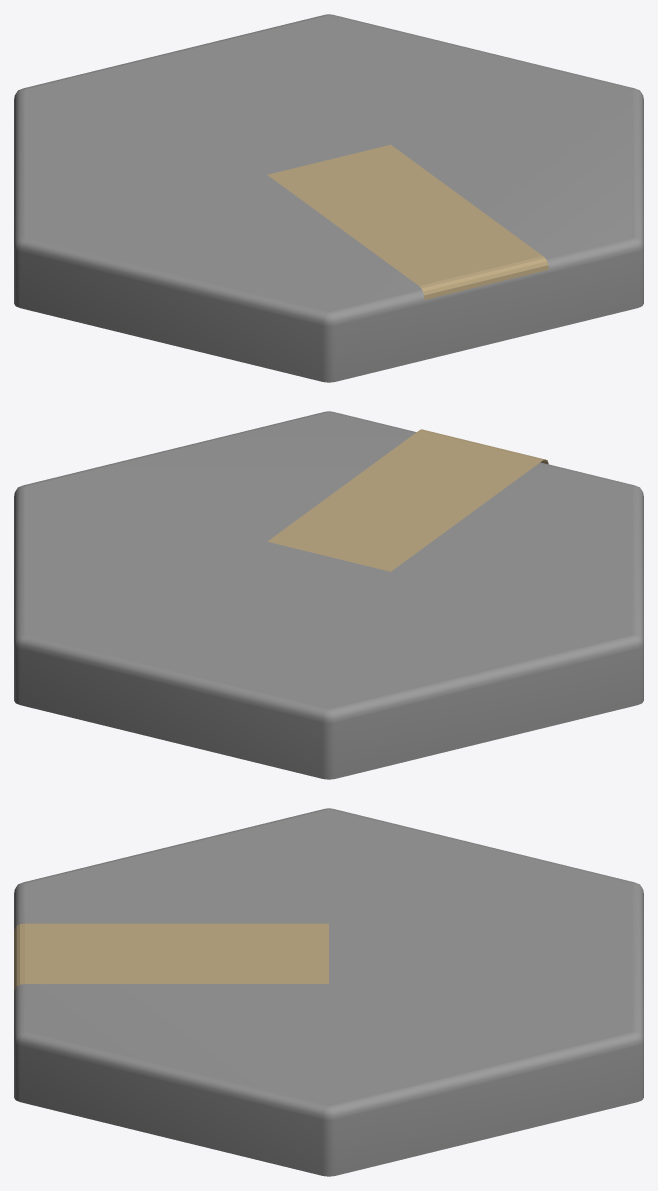
File: Road_TutType4.fbx
The picture shows the model from 3 angles, top to bottom: view 1: azimuth 30°, elevation 25°; view 2: azimuth 150°, elevation 25°; view 3: azimuth 270°, elevation 25°; orthographic projection.
Parts seen in each view (by area): view 1: Object009; view 2: Object009; view 3: Object009.
Part boxes in pixels (x1,y1,x2,y2): Object009: (14, 14, 643, 382); Object009: (14, 411, 643, 779); Object009: (14, 808, 643, 1176).
Size of the model in its own units: 99.5 by 10.62 by 86.6.
